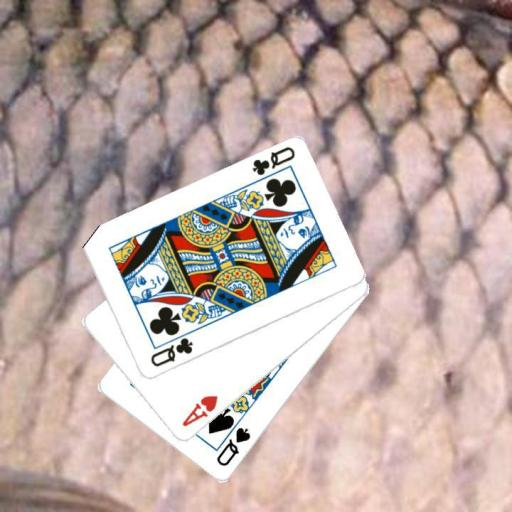AH: (179, 392, 220, 429)
QC: (147, 335, 194, 369), (249, 144, 296, 178)
QS: (214, 425, 253, 469)
